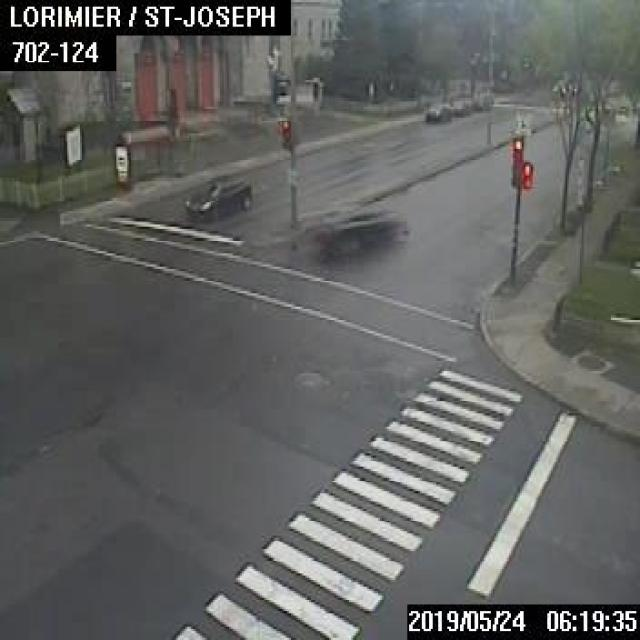vehicle: (312, 205, 406, 255), (182, 173, 250, 220), (424, 101, 450, 121), (449, 97, 471, 114)
